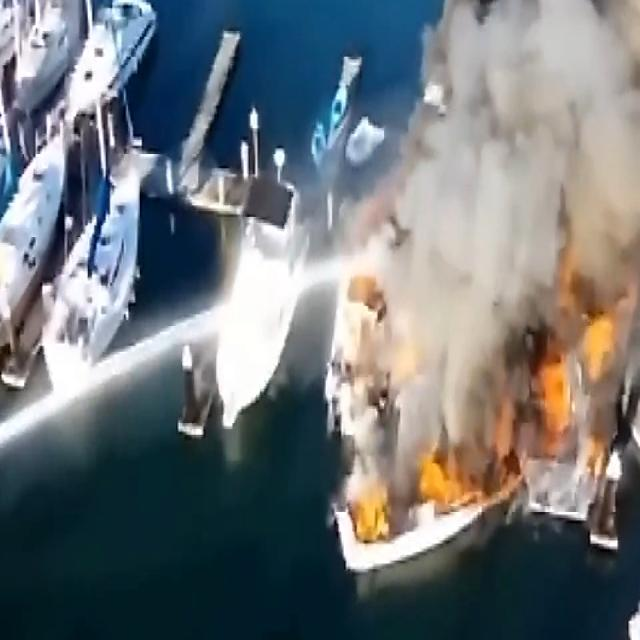fire: (487, 337, 581, 451), (348, 444, 464, 522)
